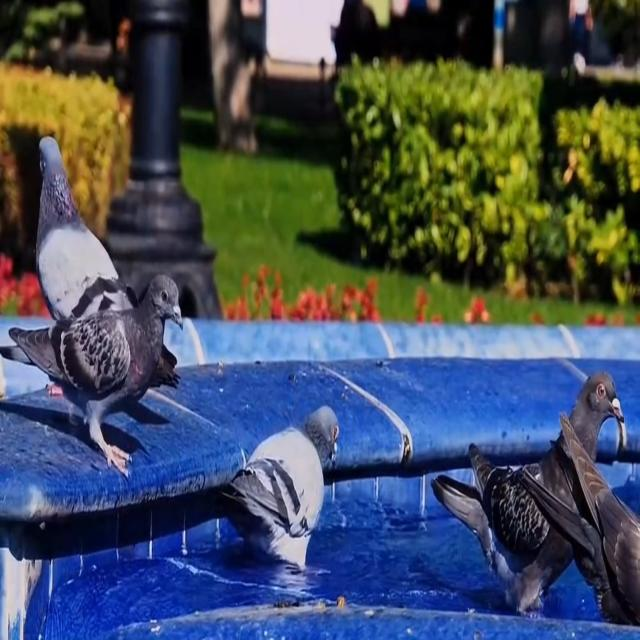bird: (428, 356, 631, 620), (32, 117, 186, 414), (0, 266, 198, 483), (517, 400, 640, 629), (211, 398, 350, 592)
